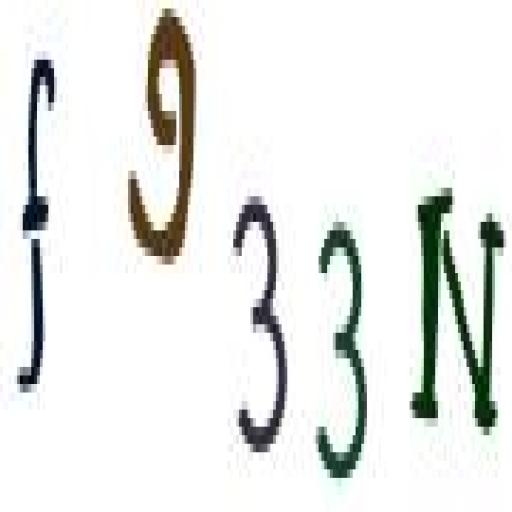3: (226, 178, 294, 468), (311, 194, 371, 492)
9: (126, 2, 200, 304)
N: (410, 162, 508, 468)
f: (13, 38, 60, 412)
